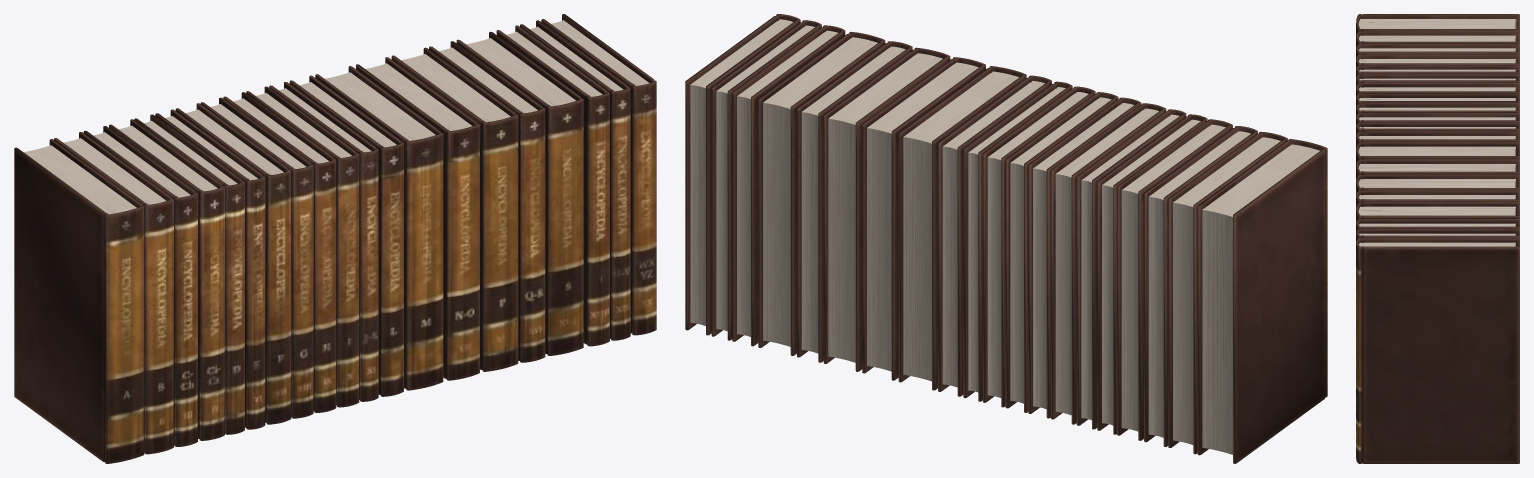
File: book_encyclopedia_set_01.glb
3 renders of one model, left to right at view 1: azimuth 30°, elevation 25°; view 2: azimuth 150°, elevation 25°; view 3: azimuth 270°, elevation 25°, orthographic. The views are drawn at different scales.
Parts seen in each view (by area): view 1: book_encyclopedia_set_01_book01; view 2: book_encyclopedia_set_01_book01; view 3: book_encyclopedia_set_01_book01.
Boxes of the visible parts, x1,y1,x2,y2 form: book_encyclopedia_set_01_book01: [14, 14, 656, 463]; book_encyclopedia_set_01_book01: [685, 14, 1327, 463]; book_encyclopedia_set_01_book01: [1356, 14, 1519, 463].
Bounding box in the file's own units: 0.5513 × 0.2374 × 0.1631.
2 materials, 2 textured.
